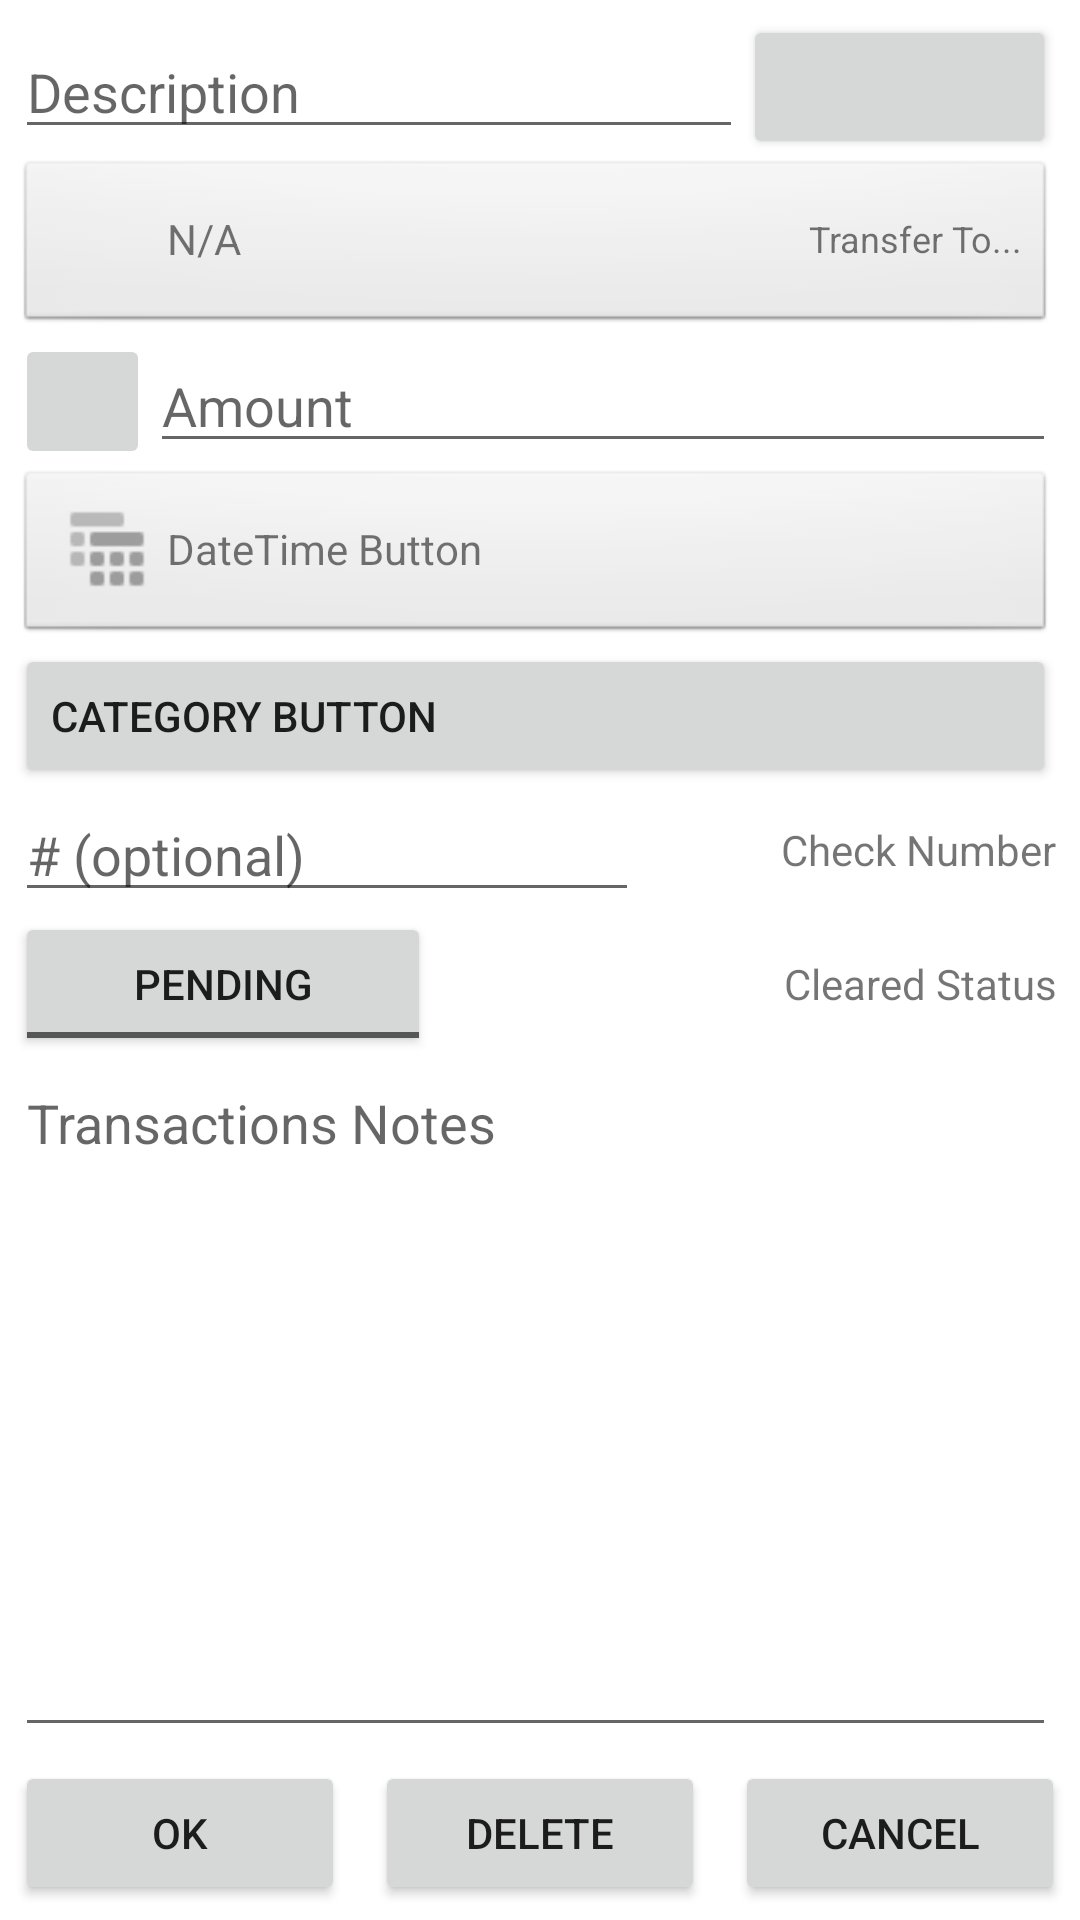

Screen size 1080px×1920px. Icon name, then its box in pixels as (x1, y1, x2, y2):
calendar: (70, 512, 144, 586)
